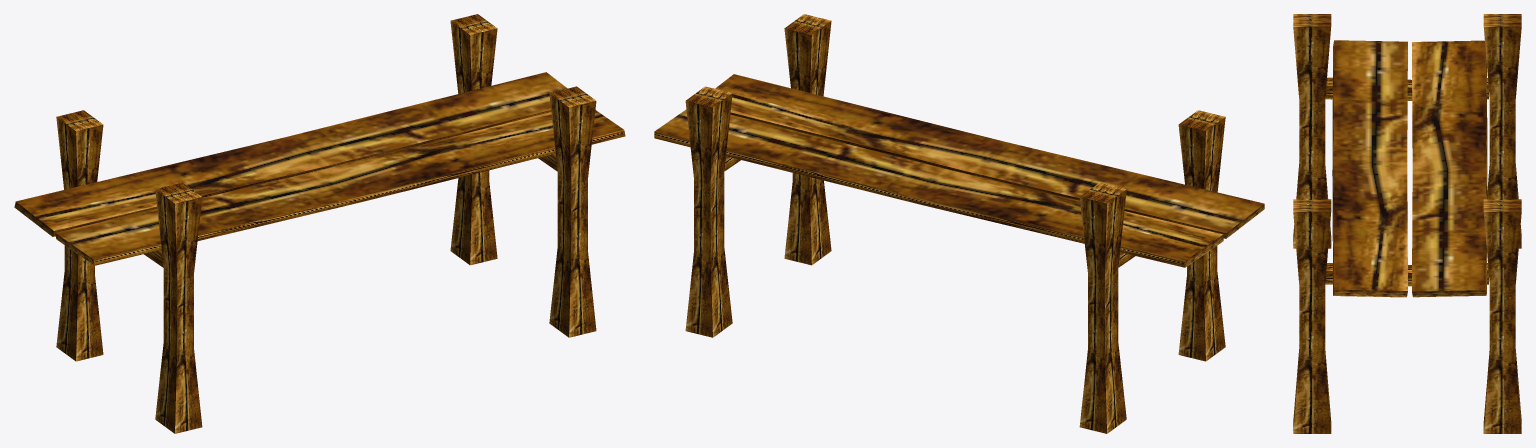
File: MAINHALL_SCAFOLDING02.fbx
The picture shows the model from 3 angles, left to right: view 1: azimuth 30°, elevation 25°; view 2: azimuth 150°, elevation 25°; view 3: azimuth 270°, elevation 25°; orthographic projection. The views are drawn at different scales.
Parts seen in each view (by area): view 1: MAINHALL_SCAFOLDING02; view 2: MAINHALL_SCAFOLDING02; view 3: MAINHALL_SCAFOLDING02.
Boxes of the visible parts, x1,y1,x2,y2 form: MAINHALL_SCAFOLDING02: (14,14,625,433); MAINHALL_SCAFOLDING02: (654,14,1264,433); MAINHALL_SCAFOLDING02: (1293,14,1521,433).
Size of the model in its own units: 31578 by 13072 by 12199.
Materials: 1 (1 with a texture image).
